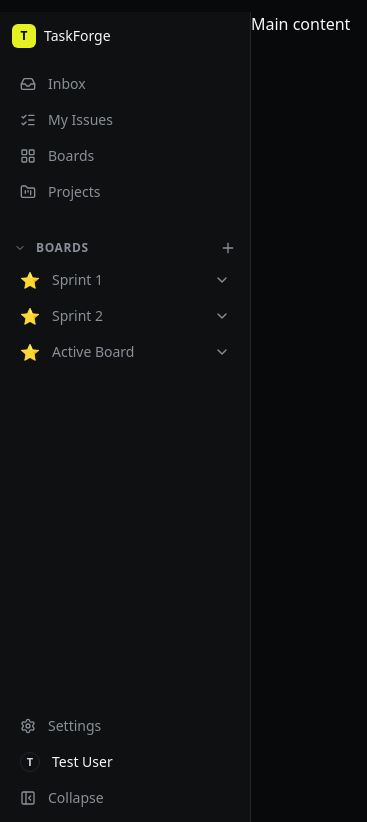
Scenario: SidebarLayout › collapses boards section when chevron is clicked
Check: the text "Sprint 1" is shown, box x1=52 y1=270 x2=103 y2=290
Click the 2nd button: (20, 248) x1=8 y1=236 x2=32 y2=260
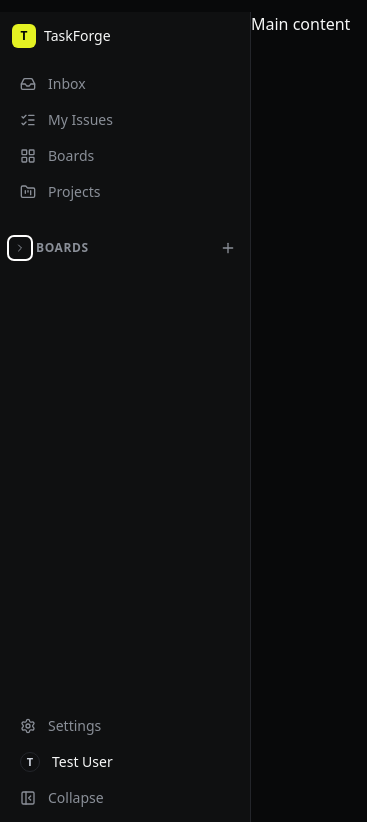
Check: the button "Sprint 1" is gone
